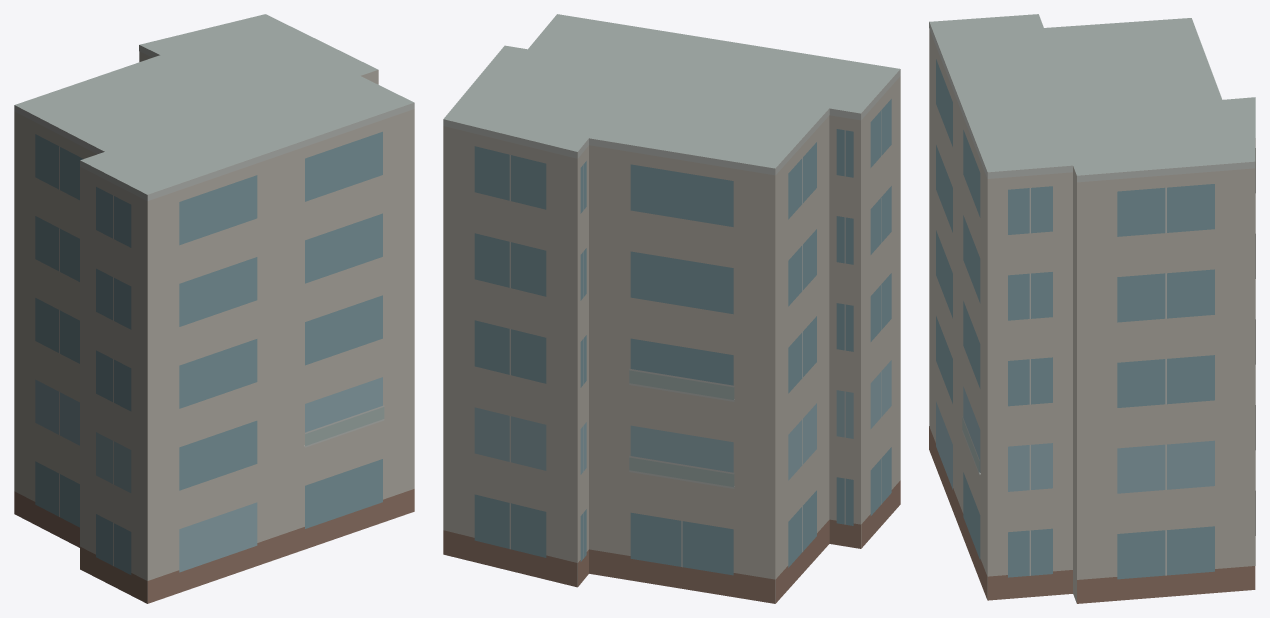
File: survey-upis-32873383.glb
3 views of the same model, side by side, from view 1: azimuth 30°, elevation 25°; view 2: azimuth 150°, elevation 25°; view 3: azimuth 270°, elevation 25° (orthographic). The views are drawn at different scales.
Visible parts, largest first — view 1: survey-upis-32873383.tmp; view 2: survey-upis-32873383.tmp; view 3: survey-upis-32873383.tmp.
Part boxes in pixels (box(x1,y1,x2,y2)): survey-upis-32873383.tmp: box(14, 14, 414, 603); survey-upis-32873383.tmp: box(443, 14, 900, 603); survey-upis-32873383.tmp: box(929, 14, 1255, 603).
Bounding box in the file's own units: 12.65 × 15.6 × 10.79.
